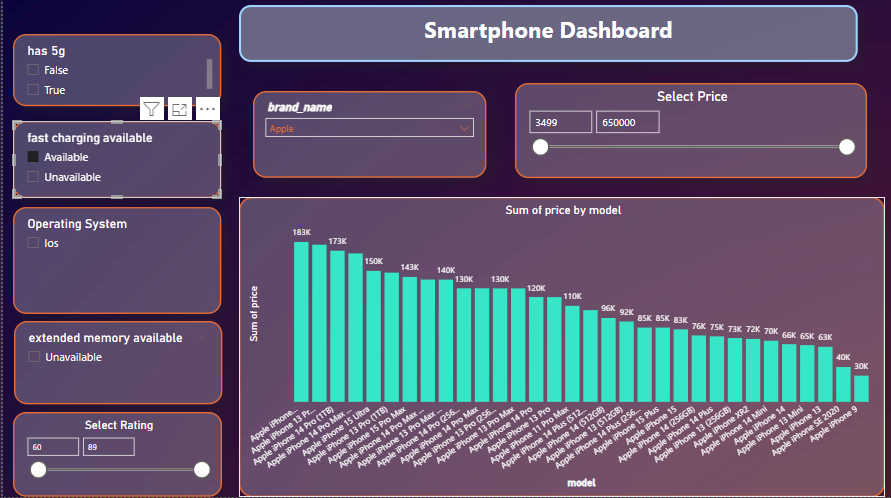

The page's visual inventory and layout, read from the dashboard file:
{"tool":"powerbi","page":{"name":"Smartphone Dashboard","canvas":[1280,720],"ordinal":0},"visuals":[{"type":"slicer","fields":{"Values":["smartphones_cleaned_v6.has_5g"]},"box":[14.4,53.3,299.5,103.7],"z":0},{"type":"slicer","fields":{"Values":["smartphones_cleaned_v6.fast_charging_available"]},"box":[14.4,178.6,299.5,110.9],"z":1000},{"type":"textbox","box":[339.8,11.5,891.4,82.1],"z":2000},{"type":"slicer","fields":{"Values":["smartphones_cleaned_v6.os"]},"box":[14.4,302.4,299.5,154.1],"z":3000},{"type":"slicer","fields":{"Values":["smartphones_cleaned_v6.extended_memory_available"]},"box":[15.8,466.6,299.5,119.5],"z":4000},{"type":"slicer","title":"Select Price","fields":{"Values":["smartphones_cleaned_v6.price"]},"box":[737.3,123.8,506.9,136.8],"z":5000},{"type":"slicer","title":"Select Rating","fields":{"Values":["smartphones_cleaned_v6.rating"]},"box":[14.4,597.6,301,122.4],"z":6000},{"type":"clusteredColumnChart","fields":{"Category":["smartphones_cleaned_v6.model"],"Y":["Sum(smartphones_cleaned_v6.price)"]},"box":[339.8,288,930.2,432],"z":7000},{"type":"slicer","fields":{"Values":["smartphones_cleaned_v6.brand_name"]},"box":[360,135.4,335.5,125.3],"z":8000}]}

Visuals, with their boxes in screenshot pixels (x1, y1, x2, y2), scaled from the page's 1280x720 canvas onto the 891x498 screenshot:
slicer - smartphones_cleaned_v6.has_5g: 10:37:219:109
slicer - smartphones_cleaned_v6.fast_charging_available: 10:124:219:200
textbox: 237:8:857:65
slicer - smartphones_cleaned_v6.os: 10:209:219:316
slicer - smartphones_cleaned_v6.extended_memory_available: 11:323:219:405
"Select Price" slicer: 513:86:866:180
"Select Rating" slicer: 10:413:220:497
clusteredColumnChart - smartphones_cleaned_v6.model x Sum(smartphones_cleaned_v6.price): 237:199:884:497
slicer - smartphones_cleaned_v6.brand_name: 251:94:484:180
